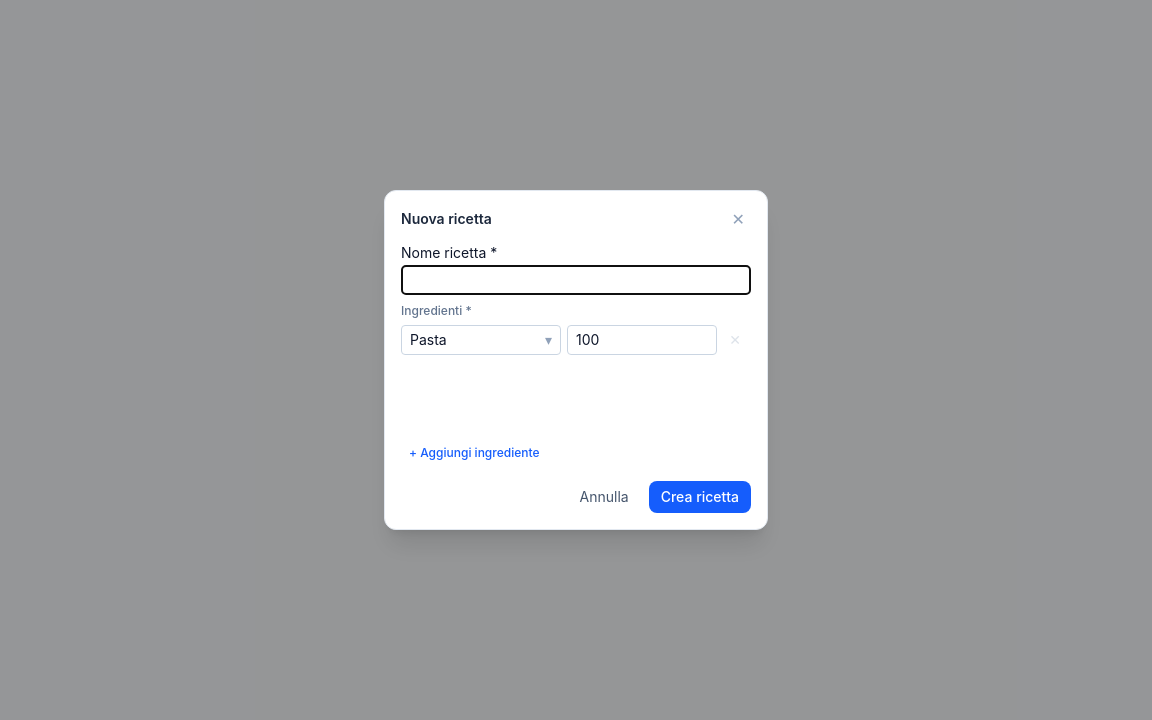
it: RicettaFormModal - nuova ricetta › RicettaFormModal_anteprima_mostraAvvisoSenzaChiamareCreaRicettaNeChiudere
In the field labelled "Nome ricetta *": (576,280) [401,265,751,295], type "Pasta al pomodoro"
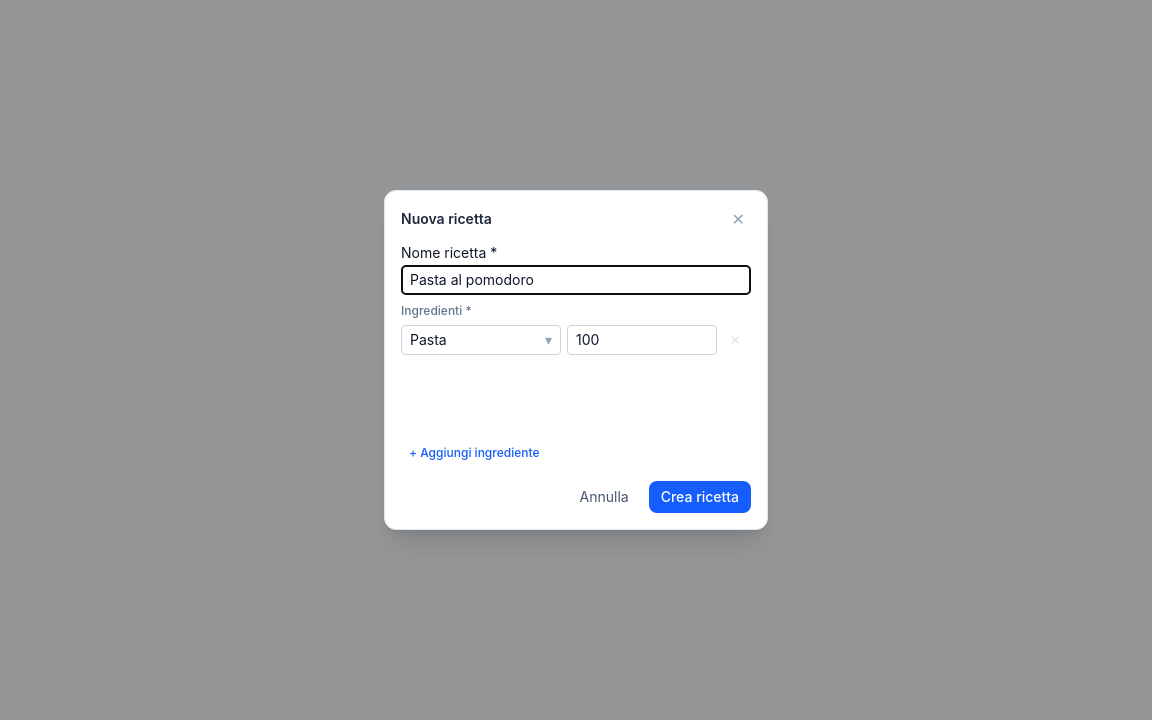
Click the button "Crea ricetta": (700,497) [649,481,751,513]
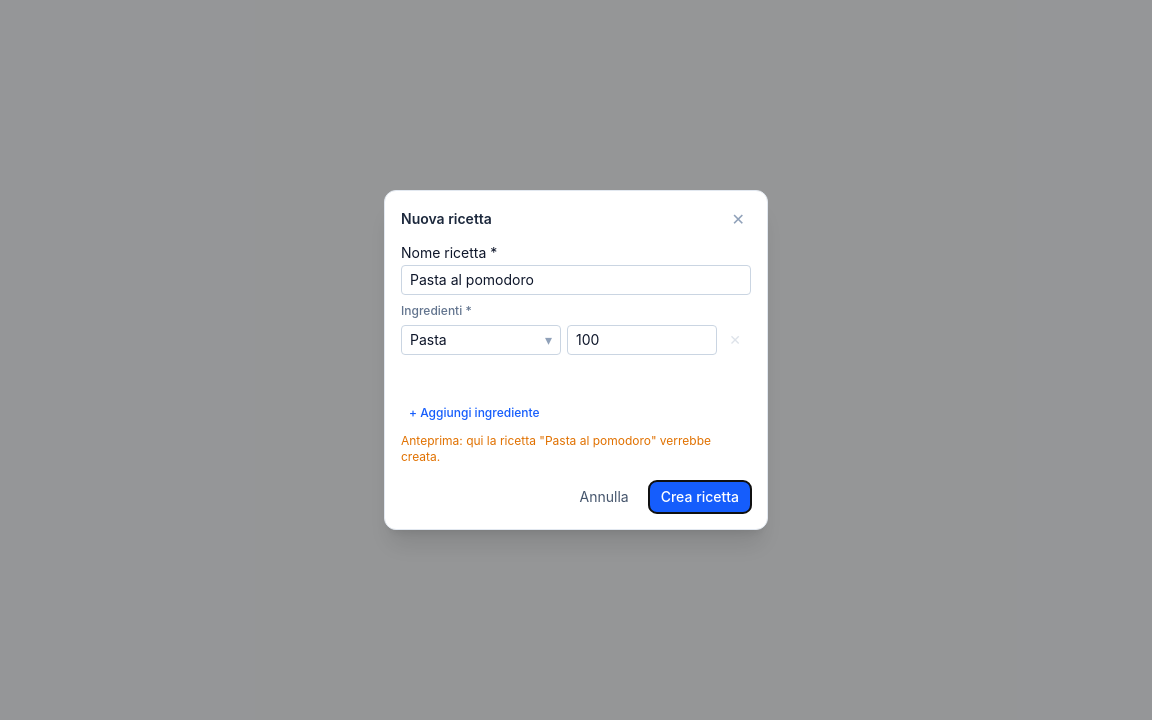
expect the text "Anteprima:" is shown: met, box [401,433,711,464]
